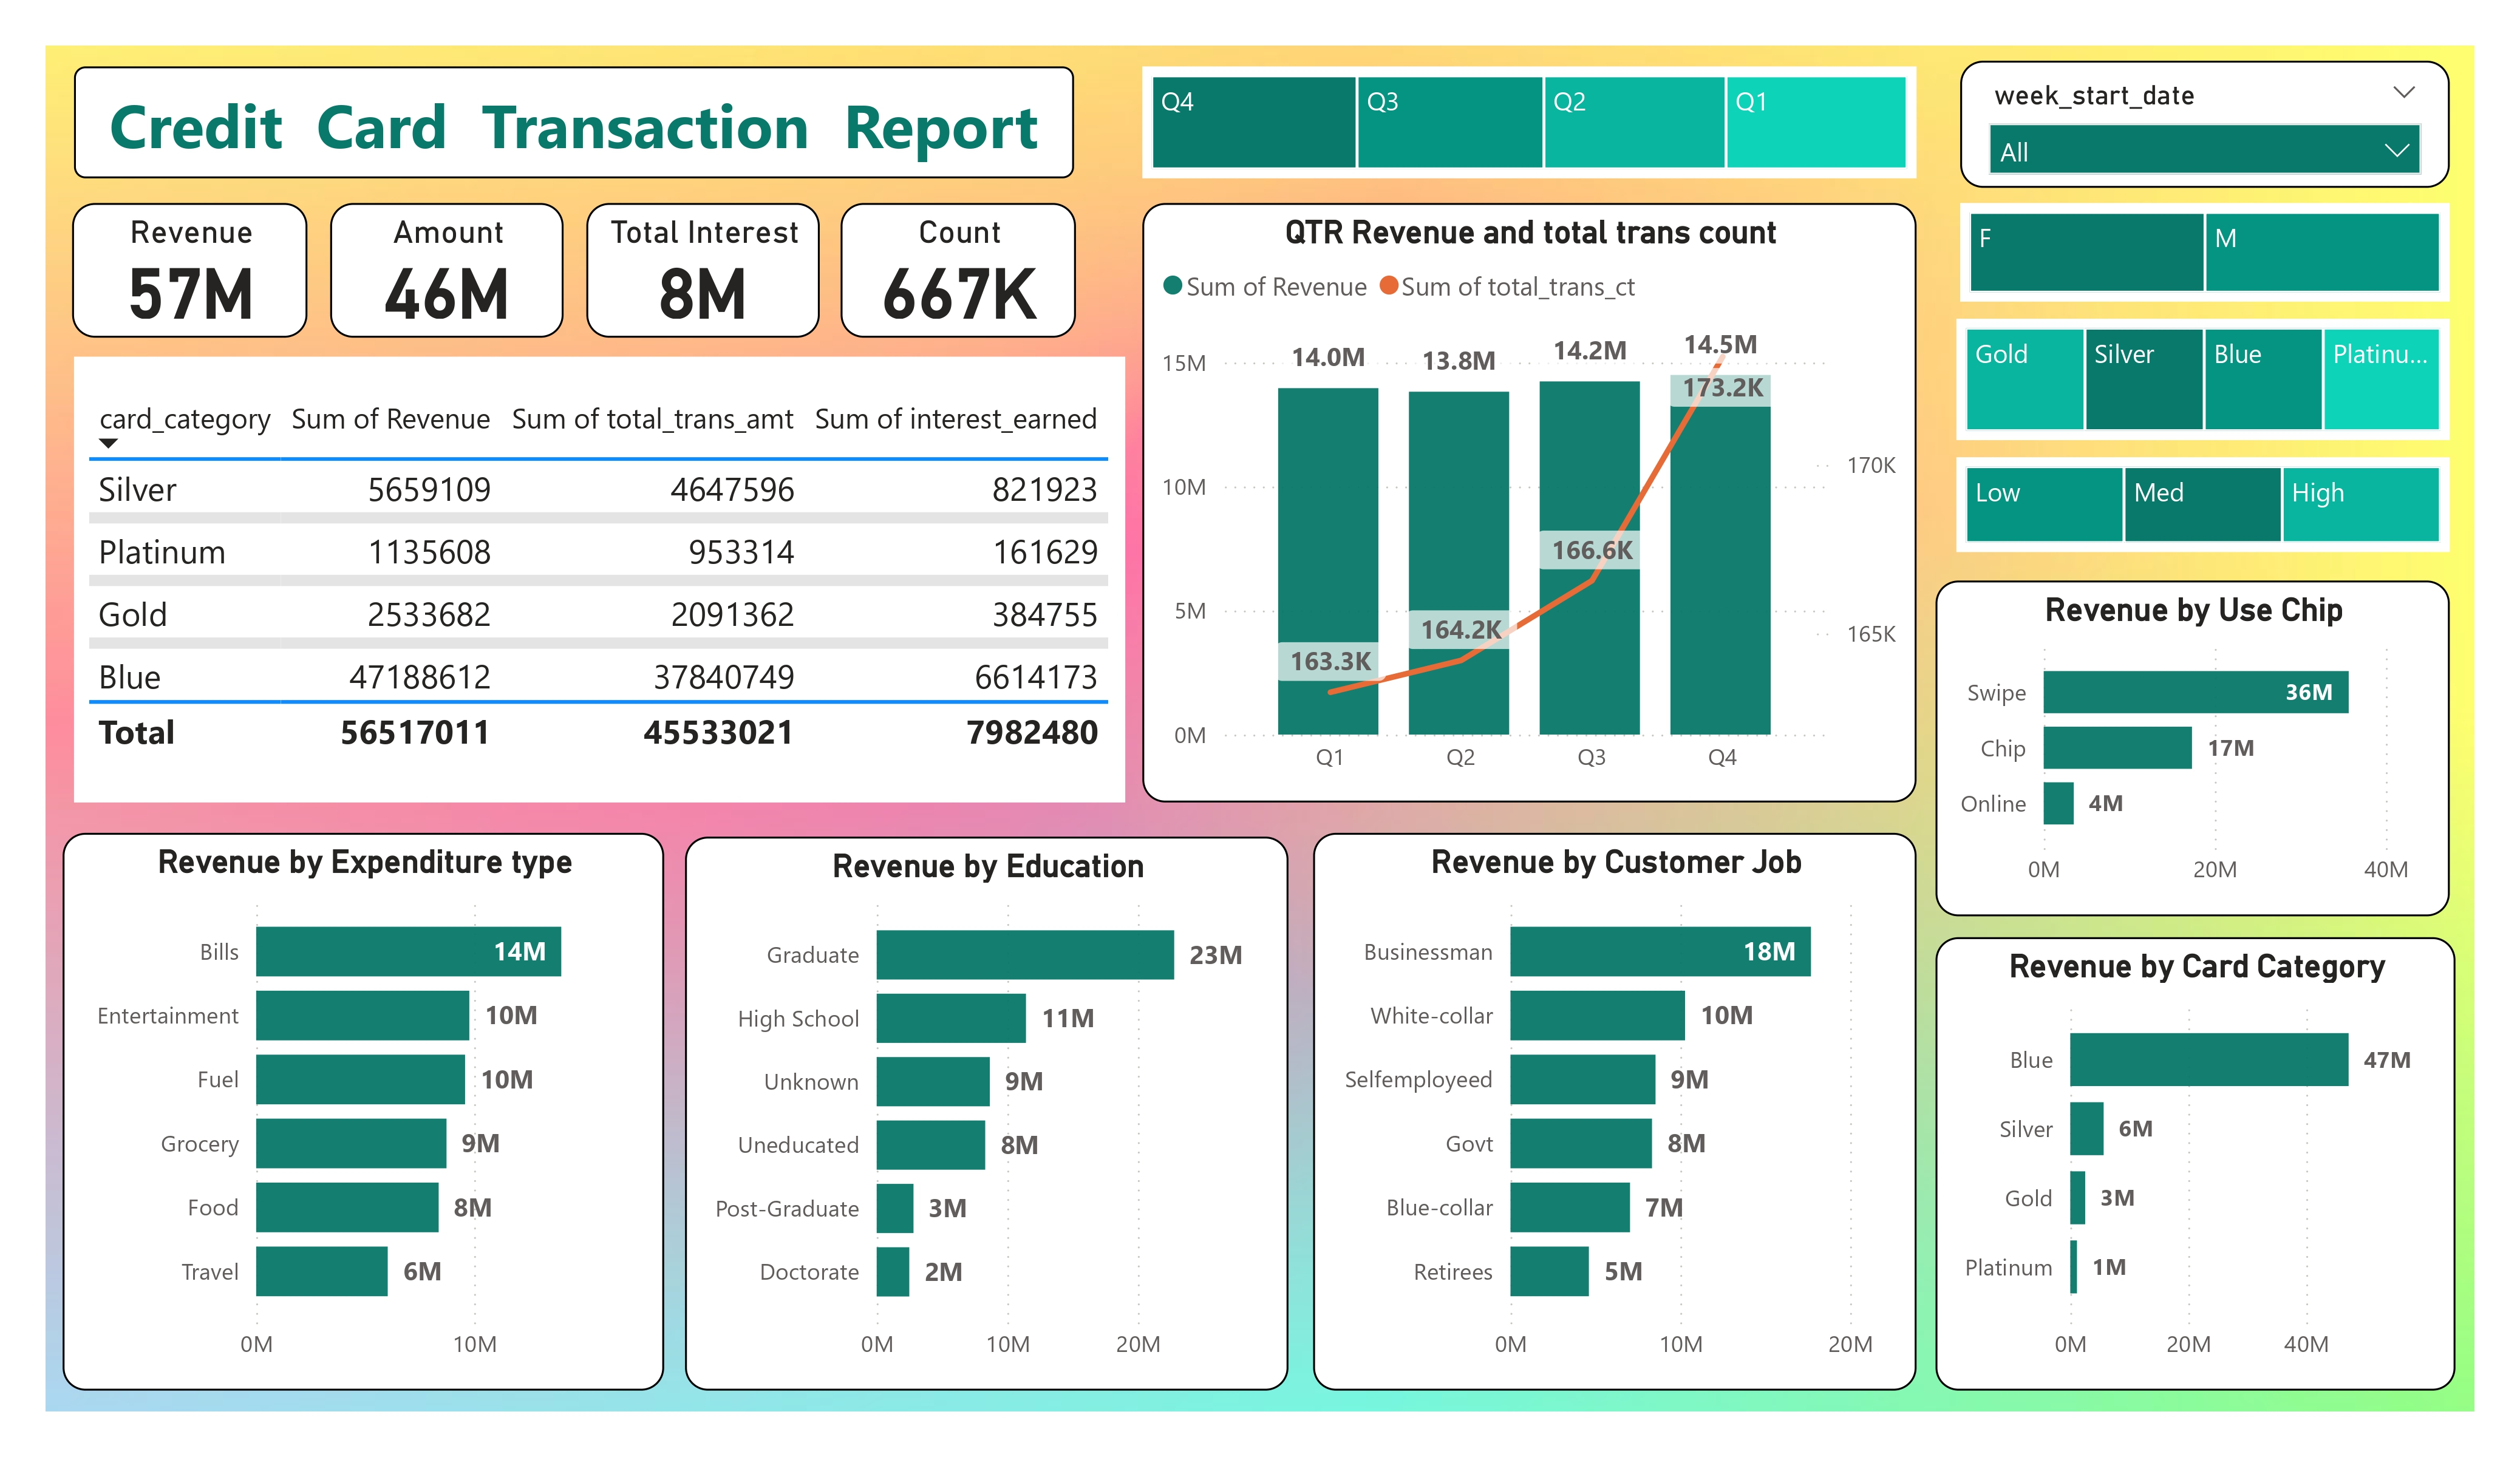

What the dashboard file says about the page in this screenshot:
{"tool":"powerbi","page":{"name":"CC Transacton","canvas":[1280,720],"ordinal":0},"visuals":[{"type":"textbox","box":[15,11,527,59],"z":0},{"type":"lineStackedColumnComboChart","title":"QTR Revenue and total trans count","fields":{"Category":["public cc_detail.qtr"],"Y":["Sum(public cc_detail.Revenue)"],"Y2":["Sum(public cc_detail.total_trans_ct)"]},"box":[578.1,83.3,407.4,316.2],"z":1000},{"type":"barChart","title":"Revenue by Expenditure type","fields":{"Y":["Sum(public cc_detail.Revenue)"],"Category":["public cc_detail.exp_type"]},"box":[9.3,415.4,317,293.7],"z":2000},{"type":"barChart","title":"Revenue by Education","fields":{"Y":["Sum(public cc_detail.Revenue)"],"Category":["public cust_detail.education_level"]},"box":[337.3,416.7,317.5,292.3],"z":3000},{"type":"barChart","title":"Revenue by Customer Job","fields":{"Y":["Sum(public cc_detail.Revenue)"],"Category":["public cust_detail.customer_job"]},"box":[668,415.4,317.5,293.7],"z":4000},{"type":"barChart","title":"Revenue by Card Category","fields":{"Y":["Sum(public cc_detail.Revenue)"],"Category":["public cc_detail.card_category"]},"box":[996.1,469.6,273.8,239.4],"z":5000},{"type":"barChart","title":"Revenue by Use Chip","fields":{"Y":["Sum(public cc_detail.Revenue)"],"Category":["public cc_detail.use_chip"]},"box":[996.1,281.8,271.2,177.3],"z":6000},{"type":"tableEx","fields":{"Values":["public cc_detail.card_category","Sum(public cc_detail.Revenue)","Sum(public cc_detail.total_trans_amt)","Sum(public cc_detail.interest_earned)"]},"box":[14.6,164,554.3,235.5],"z":7000},{"type":"card","title":"Revenue","fields":{"Values":["Sum(public cc_detail.Revenue)"]},"box":[14.4,83.1,123.3,70.4],"z":8000},{"type":"card","title":"Amount","fields":{"Values":["Sum(public cc_detail.total_trans_amt)"]},"box":[150.5,83.1,123,70.4],"z":9000},{"type":"card","title":"Total Interest","fields":{"Values":["Sum(public cc_detail.interest_earned)"]},"box":[285.2,83.3,123.5,70],"z":10000},{"type":"card","title":"Count","fields":{"Values":["Sum(public cc_detail.total_trans_ct)"]},"box":[419.4,83.1,123.3,70.4],"z":11000},{"type":"slicer","fields":{"Values":["public cc_detail.week_start_date"]},"box":[1009.3,7.9,258,67.5],"z":12000},{"type":"treemap","fields":{"Group":["public cc_detail.qtr"],"Values":["Avg(public cust_detail.client_num)"]},"box":[578.1,10.6,407.4,59.5],"z":13000},{"type":"treemap","fields":{"Group":["public cust_detail.gender"],"Values":["Avg(public cust_detail.client_num)"]},"box":[1009.3,83.3,258,51.6],"z":14000},{"type":"treemap","fields":{"Group":["public cc_detail.card_category","public cust_detail.IncomeGroup"],"Values":["Avg(public cust_detail.client_num)"]},"box":[1006.7,144.2,260.6,63.5],"z":15000},{"type":"treemap","fields":{"Group":["public cust_detail.IncomeGroup"],"Values":["Avg(public cust_detail.client_num)"]},"box":[1006.7,216.9,260.6,50.3],"z":16000}]}

Visuals, with their boxes in screenshot pixels (x1, y1, x2, y2):
textbox: bbox=[87, 67, 1074, 177]
"QTR Revenue and total trans count" lineStackedColumnComboChart: bbox=[1142, 202, 1905, 794]
"Revenue by Expenditure type" barChart: bbox=[77, 824, 670, 1374]
"Revenue by Education" barChart: bbox=[691, 826, 1286, 1373]
"Revenue by Customer Job" barChart: bbox=[1310, 824, 1905, 1374]
"Revenue by Card Category" barChart: bbox=[1924, 925, 2437, 1373]
"Revenue by Use Chip" barChart: bbox=[1924, 574, 2433, 906]
tableEx - public cc_detail.card_category x Sum(public cc_detail.Revenue): bbox=[86, 353, 1125, 794]
"Revenue" card: bbox=[86, 202, 317, 333]
"Amount" card: bbox=[341, 202, 571, 333]
"Total Interest" card: bbox=[593, 202, 825, 333]
"Count" card: bbox=[845, 202, 1075, 333]
slicer - public cc_detail.week_start_date: bbox=[1949, 61, 2433, 187]
treemap - public cc_detail.qtr x Avg(public cust_detail.client_num): bbox=[1142, 66, 1905, 177]
treemap - public cust_detail.gender x Avg(public cust_detail.client_num): bbox=[1949, 202, 2433, 299]
treemap - public cc_detail.card_category x public cust_detail.IncomeGroup: bbox=[1944, 316, 2433, 435]
treemap - public cust_detail.IncomeGroup x Avg(public cust_detail.client_num): bbox=[1944, 452, 2433, 546]
